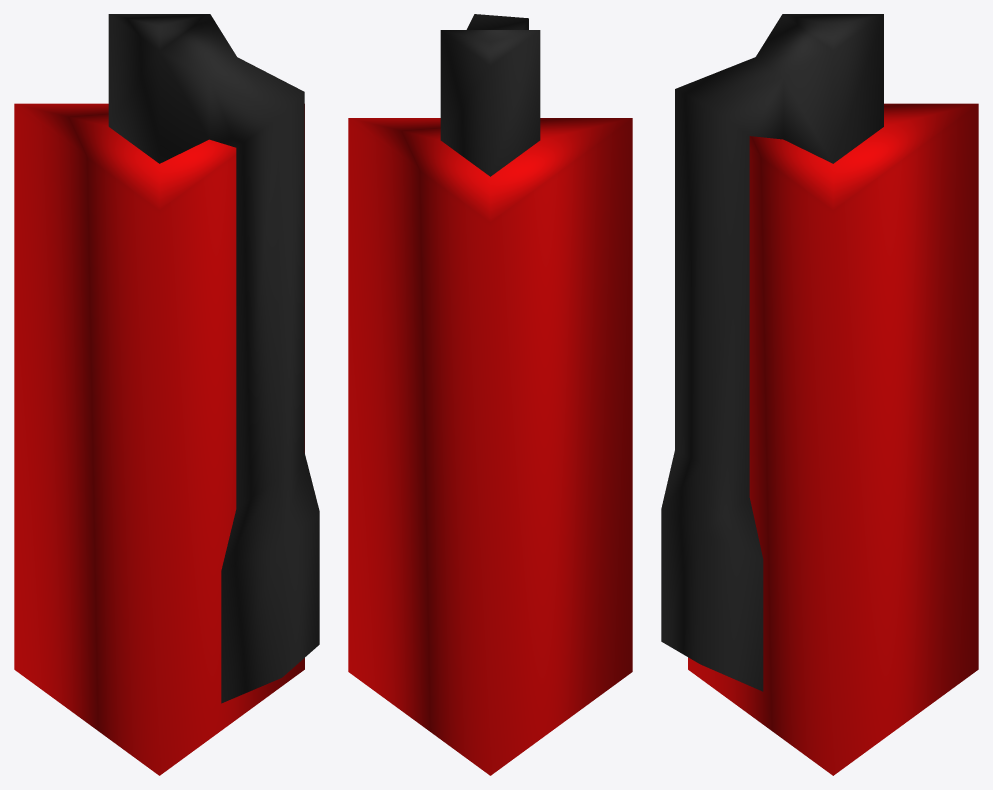
File: Fire_Extinguisher.fbx
3 views of the same model, side by side, from view 1: azimuth 30°, elevation 25°; view 2: azimuth 150°, elevation 25°; view 3: azimuth 270°, elevation 25° (orthographic). The views are drawn at different scales.
Parts seen in each view (by area): view 1: Fire_Extinguisher_1; view 2: Fire_Extinguisher_1; view 3: Fire_Extinguisher_1.
Part boxes in pixels (<box>): Fire_Extinguisher_1: <box>14,14,319,775</box>; Fire_Extinguisher_1: <box>348,14,632,775</box>; Fire_Extinguisher_1: <box>661,14,978,775</box>.
Size of the model in its own units: 22.22 by 66.08 by 28.01.
